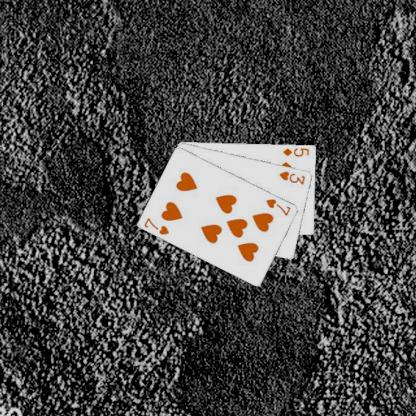3H: (277, 168, 306, 186)
5D: (280, 145, 310, 158)
7H: (141, 215, 171, 236), (264, 196, 292, 217)
